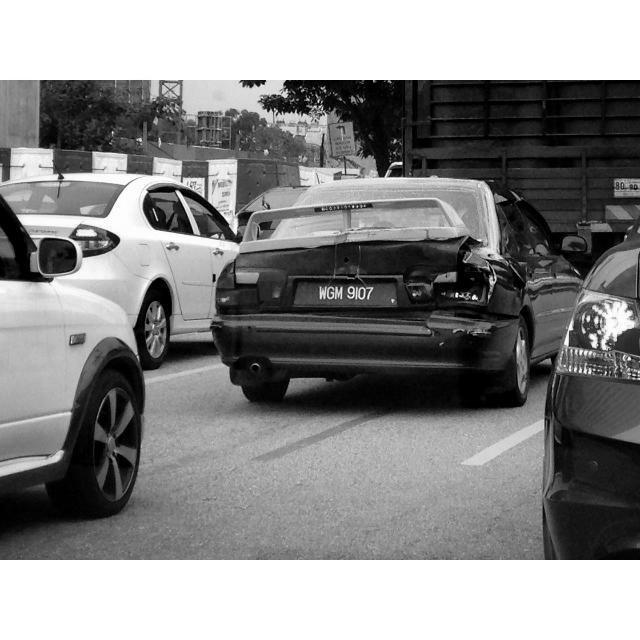boot-dent: (262, 234, 436, 317)
